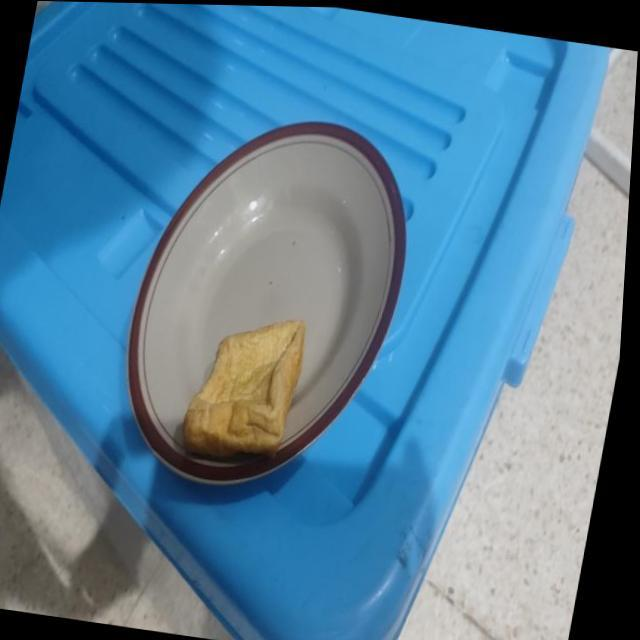tahu_goreng: (182, 320, 305, 457)
